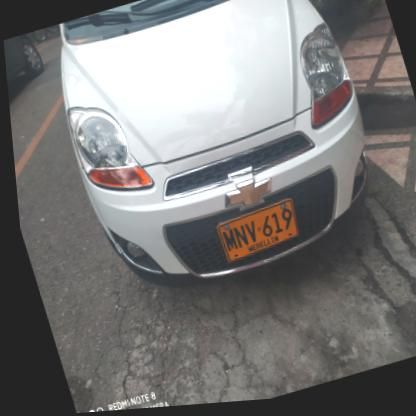placa: (204, 199, 301, 270)
